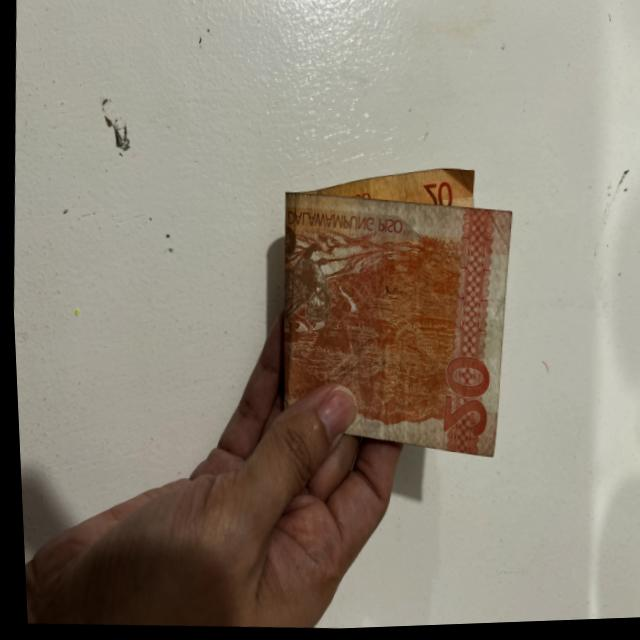value: (426, 354, 490, 444)
